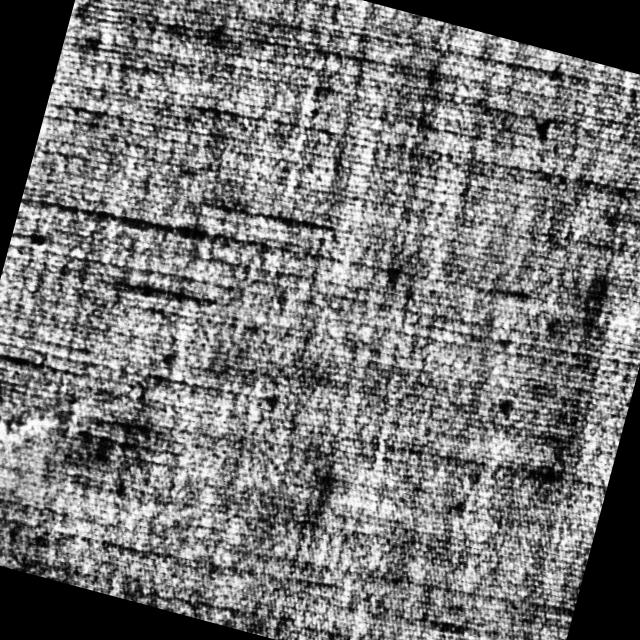gray stitch: (0, 360, 85, 483)
